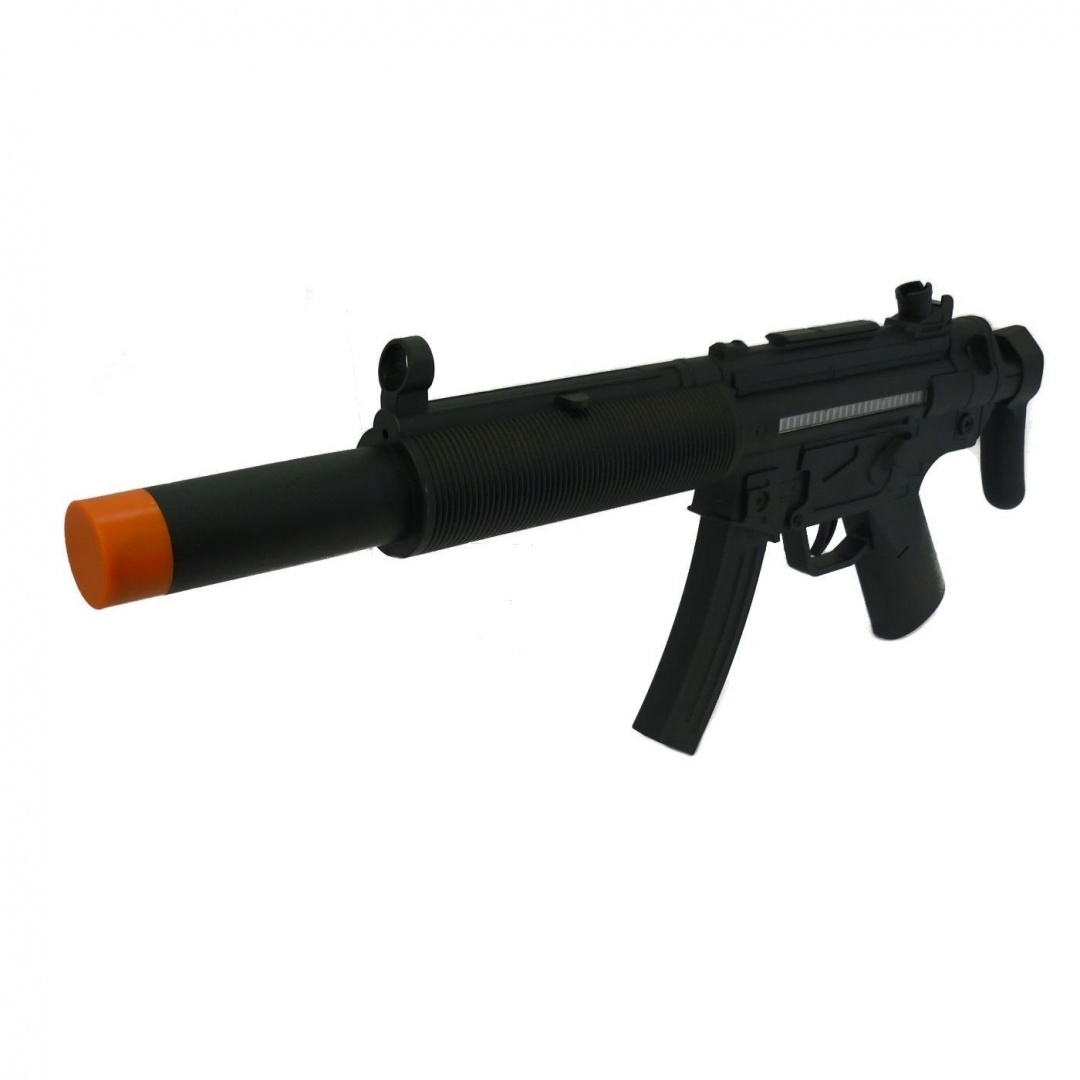Arma Falsa: (68, 275, 1048, 764)
